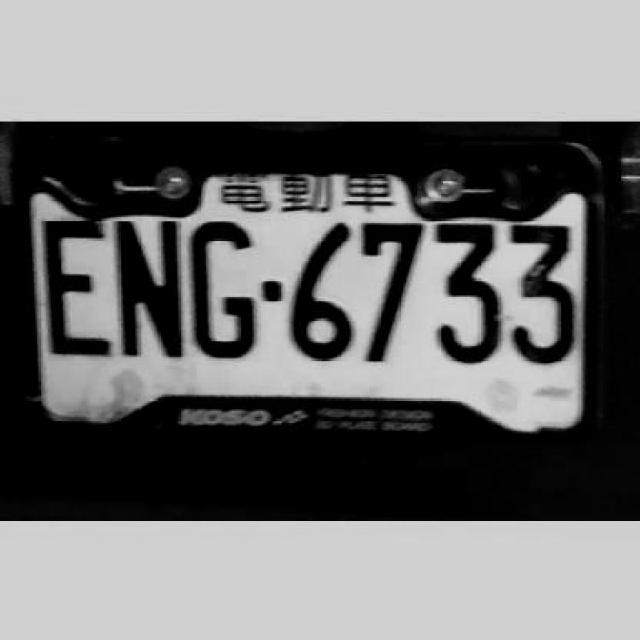-: (260, 278, 282, 298)
3: (432, 220, 502, 366), (508, 220, 575, 365)
6: (291, 222, 357, 363)
7: (362, 220, 423, 365)
E: (40, 222, 112, 358)
G: (184, 217, 253, 361)
N: (112, 216, 183, 362)
